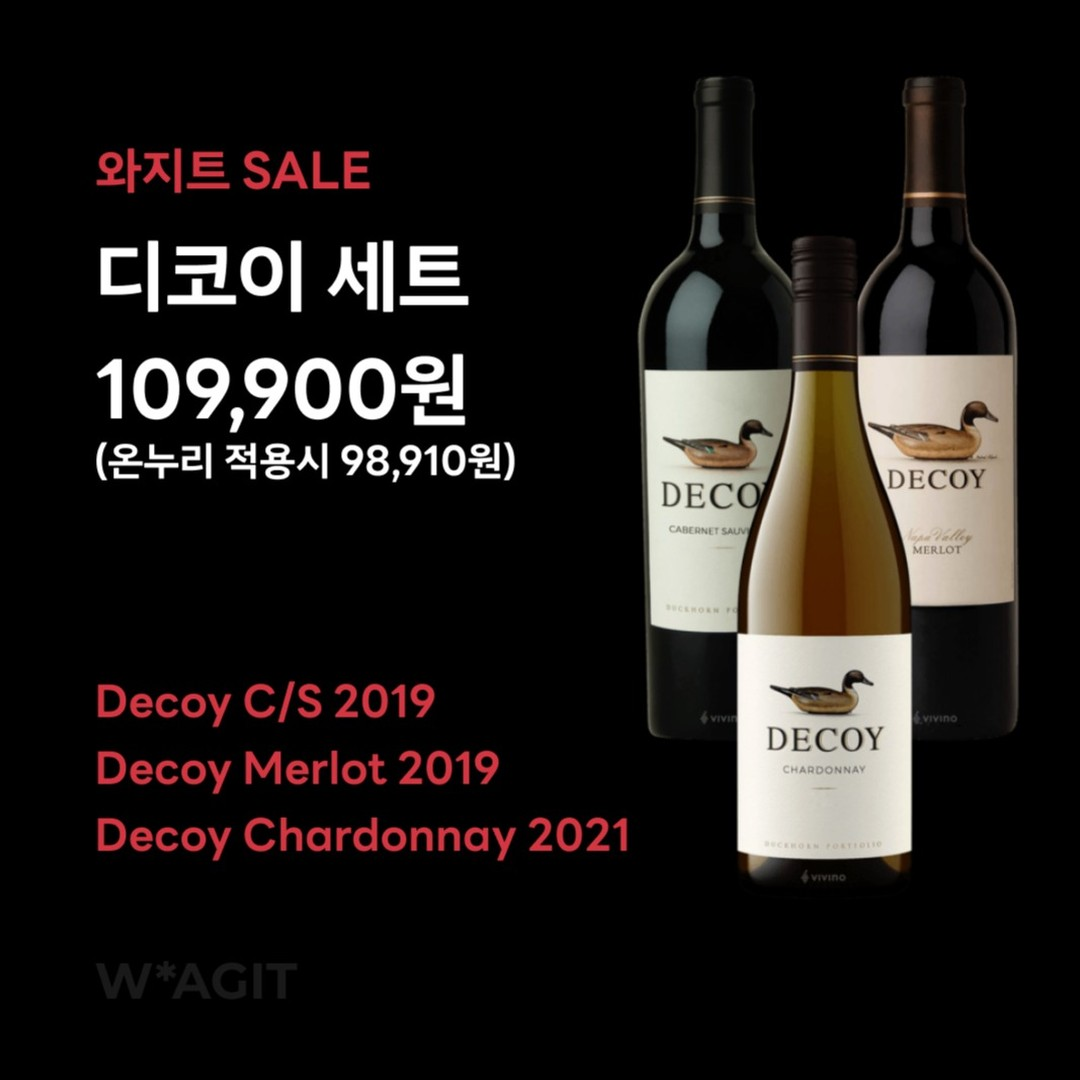alcohol: (631, 70, 829, 750), (724, 229, 921, 906), (830, 70, 1024, 750)
